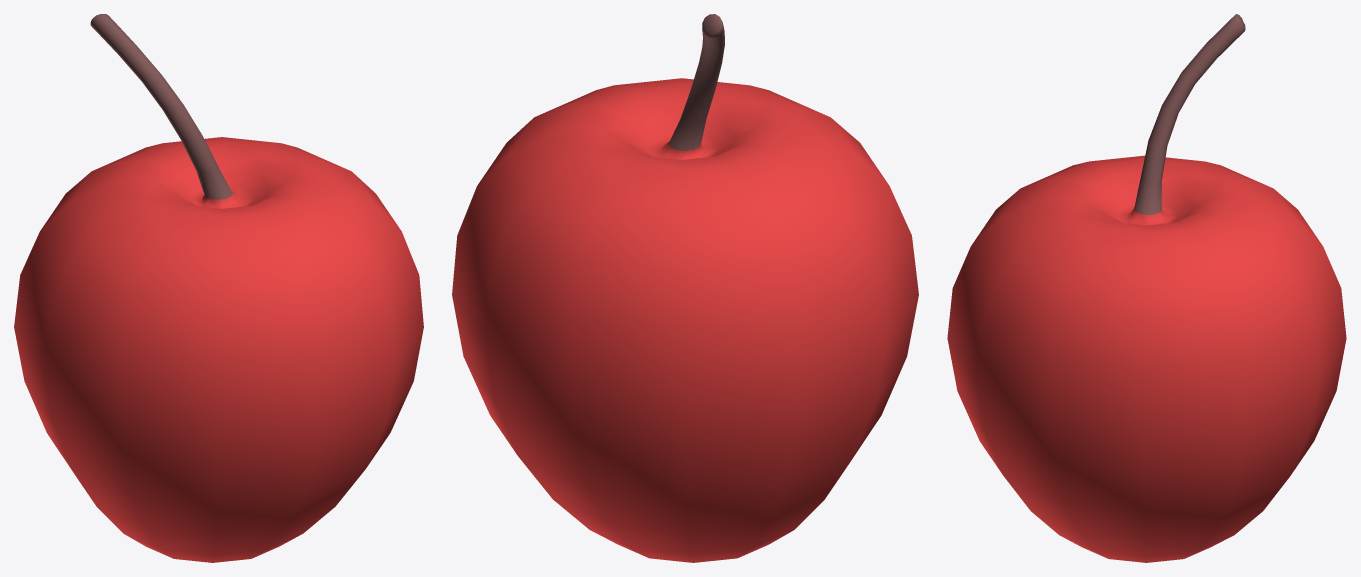
The model's file is Comida.fbx.
3 renders of one model, left to right at view 1: azimuth 30°, elevation 25°; view 2: azimuth 150°, elevation 25°; view 3: azimuth 270°, elevation 25°, orthographic. The views are drawn at different scales.
Visible parts, largest first — view 1: maça.001; view 2: maça.001; view 3: maça.001.
Part boxes in pixels (<box>): maça.001: <box>14,14,423,562</box>; maça.001: <box>452,14,918,562</box>; maça.001: <box>947,14,1346,562</box>.
Bounding box in the file's own units: 8.07 × 11.09 × 8.15.
